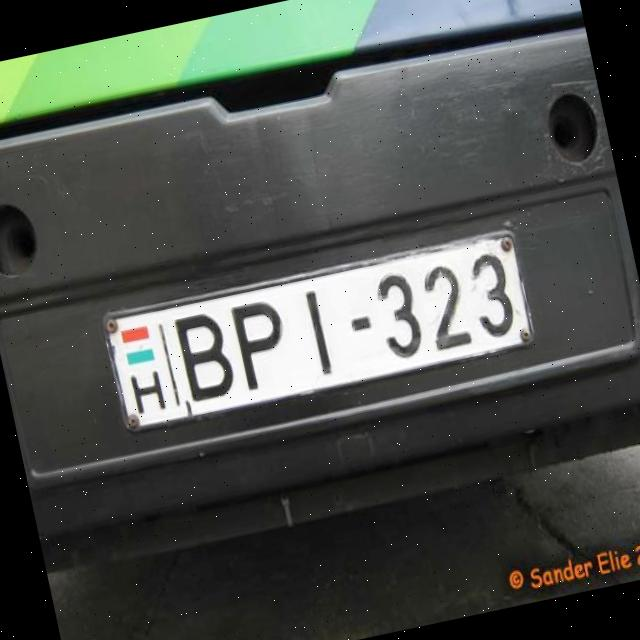licence: (99, 223, 538, 429)
